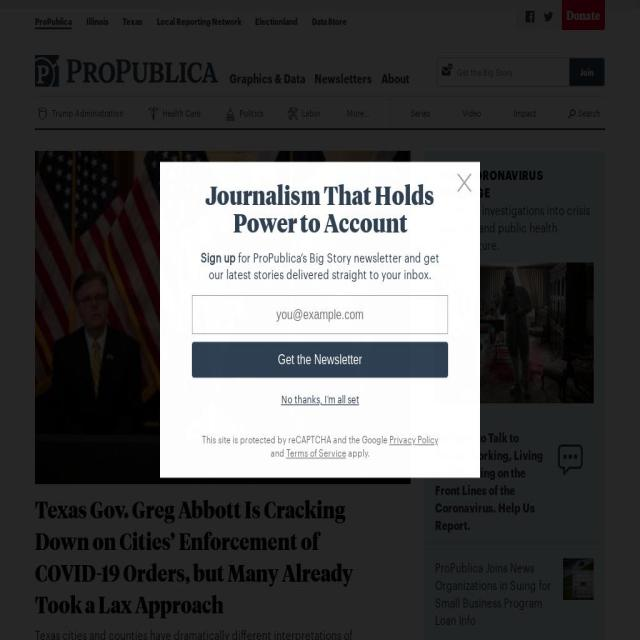button: (35, 150, 411, 484), (435, 262, 594, 403), (435, 428, 594, 534), (435, 558, 594, 640), (35, 54, 218, 87), (435, 165, 594, 201), (35, 95, 128, 130), (146, 95, 205, 130), (222, 95, 268, 130), (224, 69, 310, 87), (564, 95, 605, 130), (285, 95, 325, 130), (156, 13, 242, 28), (562, 0, 605, 30), (310, 69, 377, 87), (508, 95, 540, 130), (342, 95, 373, 130), (406, 95, 434, 130), (458, 95, 486, 130), (538, 0, 562, 30), (516, 0, 540, 30), (376, 69, 414, 87), (255, 13, 298, 28), (35, 13, 73, 29), (311, 13, 347, 28), (85, 13, 108, 28), (123, 13, 143, 28), (0, 0, 11, 14)
field: (452, 59, 570, 84), (570, 57, 604, 86)
heading: (35, 493, 354, 621), (435, 428, 547, 534), (435, 558, 552, 630), (35, 54, 218, 87), (435, 165, 594, 201)
iframe: (0, 0, 640, 640)
image: (35, 150, 411, 484), (435, 262, 594, 403), (562, 558, 594, 600), (556, 441, 584, 479), (441, 58, 453, 81), (543, 10, 553, 23), (525, 10, 535, 23), (37, 106, 45, 116), (148, 106, 156, 116), (225, 106, 233, 116), (287, 106, 295, 116), (568, 109, 576, 119)
text: (435, 200, 594, 253), (35, 625, 363, 640), (49, 106, 124, 120), (156, 13, 212, 28), (160, 106, 201, 120), (211, 13, 241, 28), (237, 106, 263, 120), (578, 106, 601, 120), (300, 106, 321, 120)
